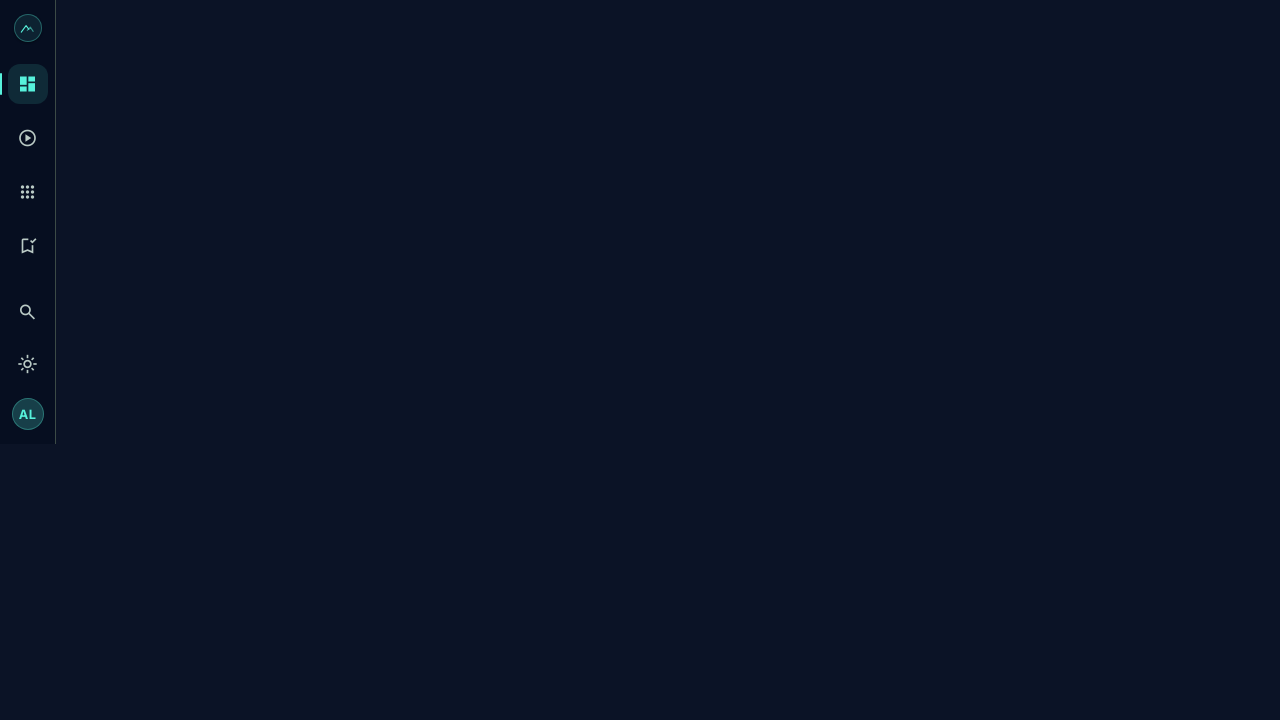
Test case: Rail — account menu behind the avatar › closes on an outside mousedown
Click the button with aria-label "account: ada lovelace" at [28, 414], box top-left (12, 398), bottom-right (44, 430)
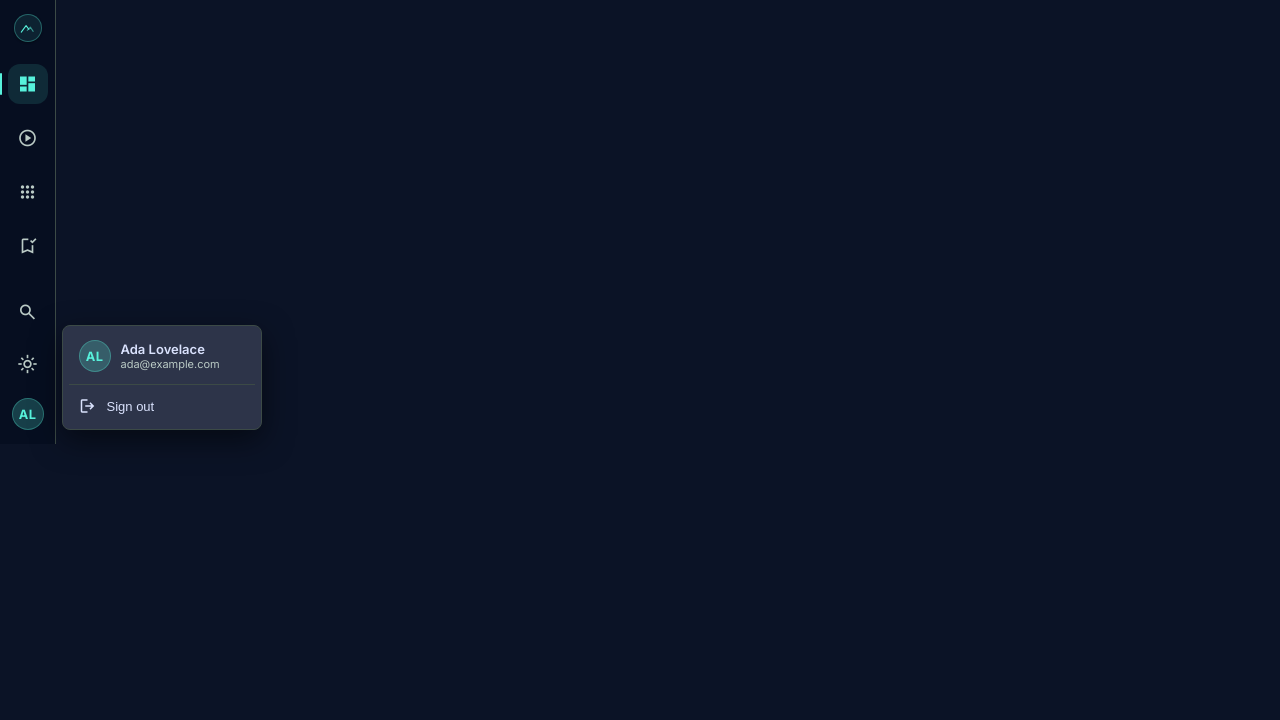
Now the menu is shown, box top-left (62, 325), bottom-right (262, 430)
Press the mouse on the element showing "AL AL Ada Lovelace ada@example.com Sign out" at [640, 360], box top-left (0, 0), bottom-right (1279, 719)
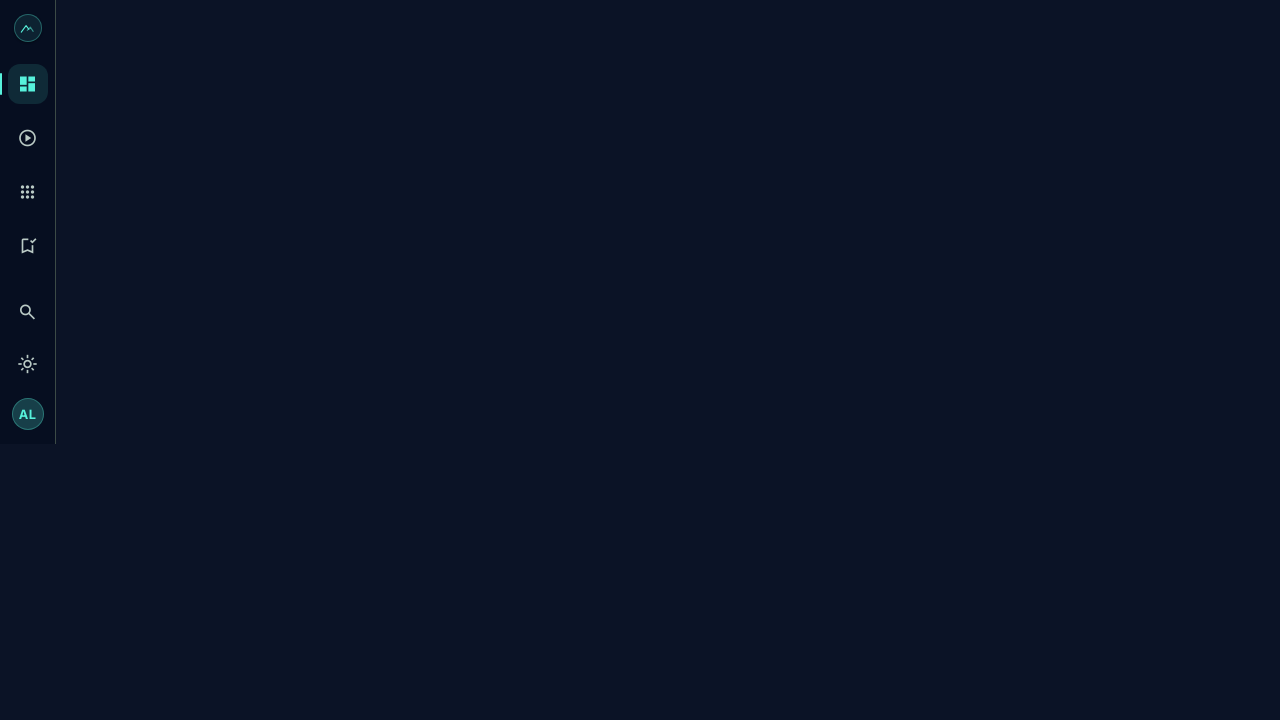
Now the menu is gone
